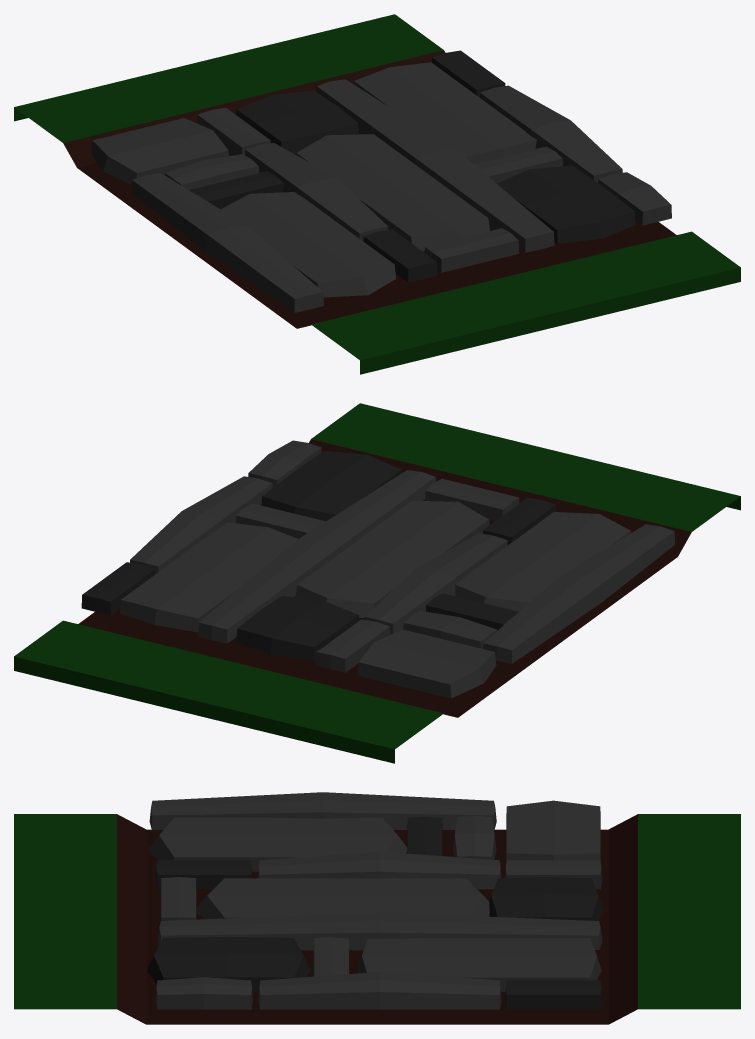
File: chao-reto.obj
3 views of the same model, one above another, from view 1: azimuth 30°, elevation 25°; view 2: azimuth 150°, elevation 25°; view 3: azimuth 270°, elevation 25° (orthographic). The views are drawn at different scales.
Parts seen in each view (by area): view 1: chao_reto_Plane; view 2: chao_reto_Plane; view 3: chao_reto_Plane.
Boxes of the visible parts, <box> form: chao_reto_Plane: <box>14,14,740,374</box>; chao_reto_Plane: <box>14,403,740,763</box>; chao_reto_Plane: <box>14,792,740,1024</box>.
Bounding box in the file's own units: 2.08 × 0.1769 × 3.15.
